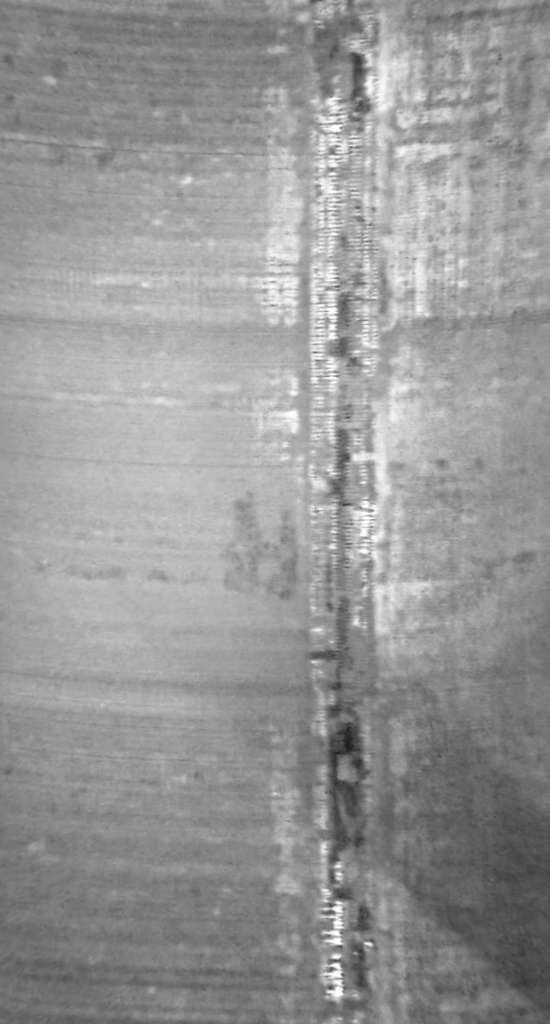splice: (296, 2, 393, 1024)
